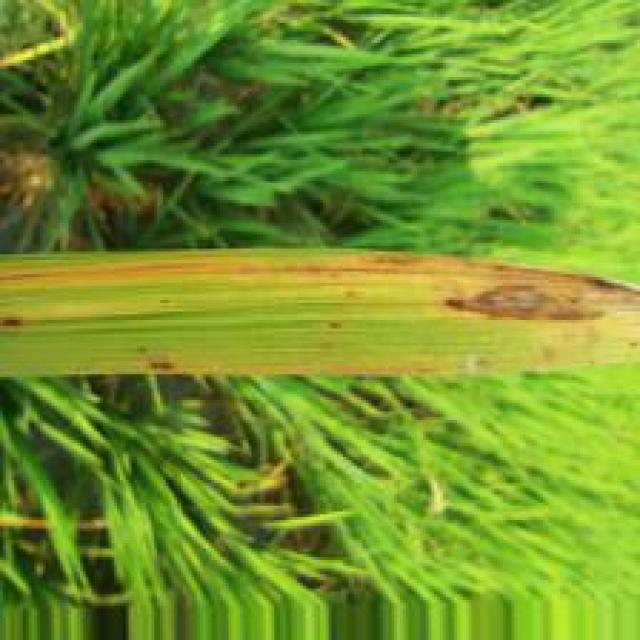Leaf_Blast: (0, 257, 640, 327), (97, 357, 253, 377), (0, 312, 29, 335)
